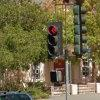Traffic light: (42, 10, 96, 74)
